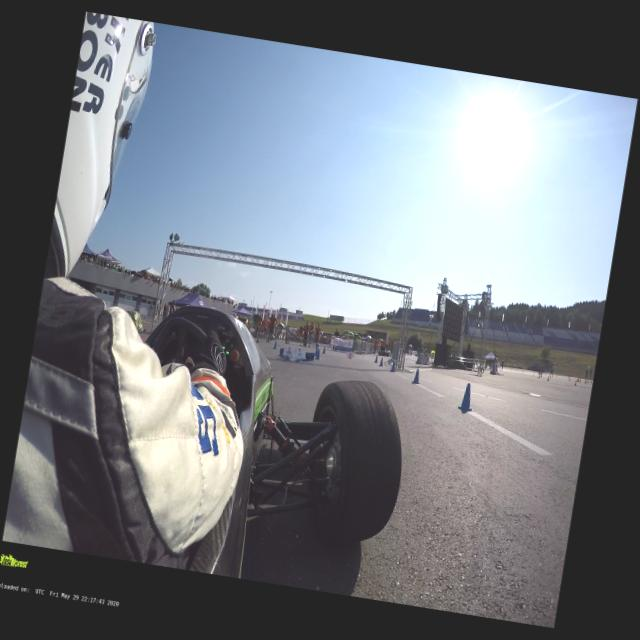blue_cone: (455, 382, 477, 412), (411, 368, 423, 386), (390, 361, 398, 374), (314, 348, 322, 361), (378, 357, 384, 368), (314, 347, 320, 358), (273, 340, 278, 350), (322, 346, 328, 354), (374, 355, 379, 364)
